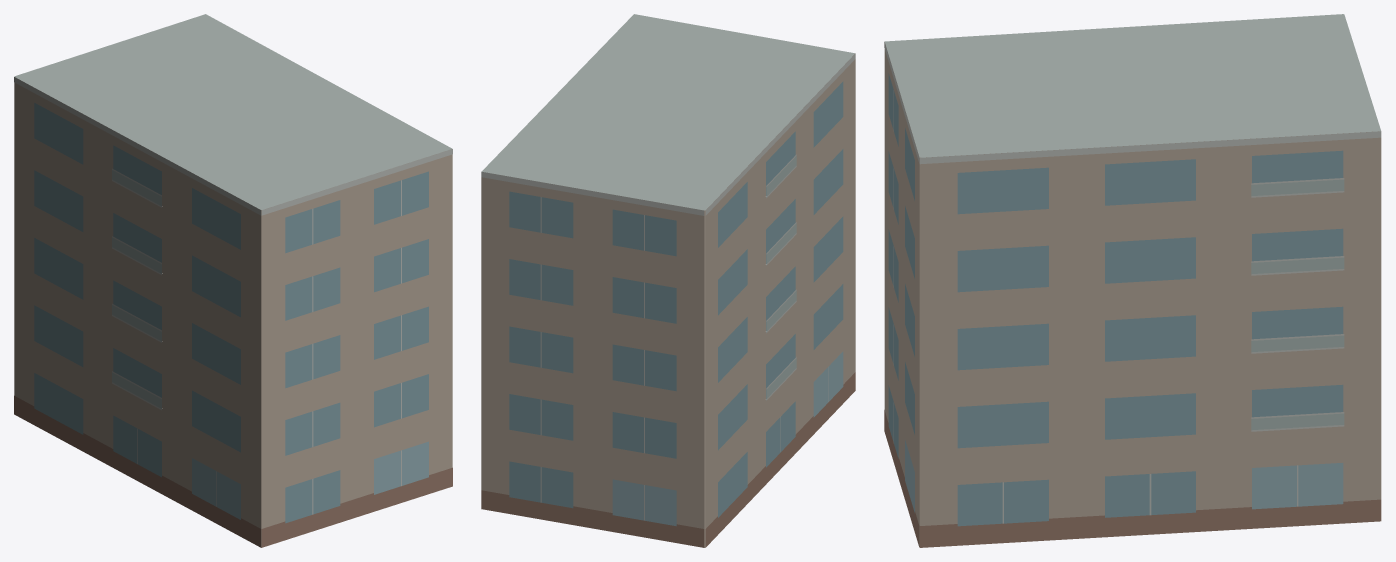
File: survey-upis-32706741.glb
3 renders of one model, left to right at view 1: azimuth 30°, elevation 25°; view 2: azimuth 150°, elevation 25°; view 3: azimuth 270°, elevation 25°, orthographic. The views are drawn at different scales.
Visible parts, largest first — view 1: survey-upis-32706741.tmp; view 2: survey-upis-32706741.tmp; view 3: survey-upis-32706741.tmp.
Part boxes in pixels (left/top/right/bottom): survey-upis-32706741.tmp: left=14, top=14, right=452, bottom=547; survey-upis-32706741.tmp: left=481, top=14, right=855, bottom=547; survey-upis-32706741.tmp: left=884, top=14, right=1381, bottom=547.
Size of the model in its own units: 11.75 by 14.85 by 17.15.
